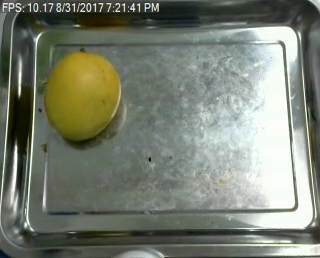Mango: (44, 50, 121, 143)
